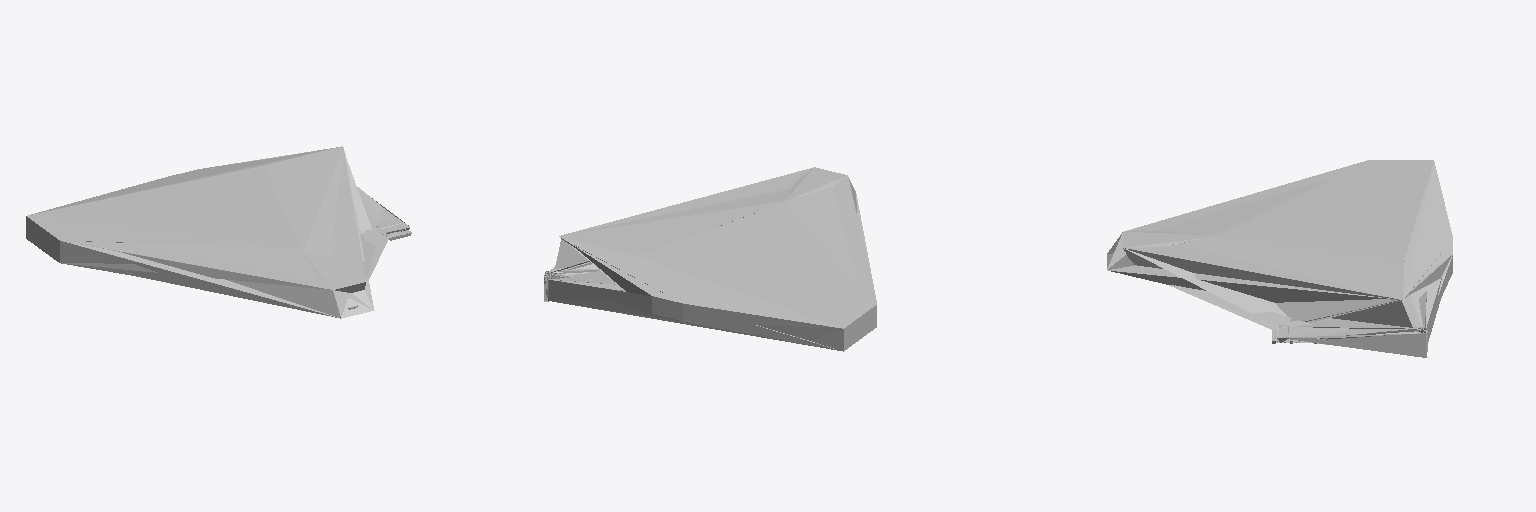
File: Craft.obj
3 renders of one model, left to right at view 1: azimuth 30°, elevation 25°; view 2: azimuth 150°, elevation 25°; view 3: azimuth 270°, elevation 25°, orthographic.
Visible parts, largest first — view 1: Room_Cockpit_M61, Prop_Cockpit_Seat_06_M66.005, Prop_EngineRoom_Reactor_M58, DoorFrame_Cockpit_05_M74, Room_EngineRoom_M62, Prop_DiningHall_FoodDispenser_01_M56, DoorFrame_DiningHall_03_M72, Prop_EngineRoom_Pipe_03_Cylinder.002, Prop_PodRoom_Pod_08_M99, Prop_EngineRoom_Railing_M199, Prop_PodRoom_Lever_07_M57.006, Prop_DiningHall_Bench_12_Cube.022; view 2: Room_Cockpit_M61, Prop_EngineRoom_Reactor_M58, Prop_Cockpit_Seat_06_M66.005, DoorFrame_DiningHall_03_M72, DoorFrame_Cockpit_05_M74, Prop_DiningHall_FoodDispenser_01_M56, Prop_EngineRoom_Pipe_03_Cylinder.002, Prop_PodRoom_Lever_07_M57.006, Prop_Cockpit_Monitor_04_Cube.003, Room_EngineRoom_M62, Trigger_Cockpit_08_M50, Prop_Cockpit_TLever_05_M43 (+1 smaller); view 3: Room_Cockpit_M61, Prop_EngineRoom_Reactor_M58, DoorFrame_Cockpit_05_M74, Room_EngineRoom_M62, Prop_Cockpit_Seat_06_M66.005, DoorFrame_DiningHall_03_M72, Room_PodRoom_M3, Prop_DiningHall_FoodDispenser_01_M56, Prop_EngineRoom_Railing_M199, Prop_EngineRoom_Pipe_03_Cylinder.002, Prop_PodRoom_Lever_07_M57.006.
Part boxes in pixels (x1,y1,x2,y2): Room_Cockpit_M61: (28, 147, 373, 317); Prop_Cockpit_Seat_06_M66.005: (27, 218, 337, 317); Prop_EngineRoom_Reactor_M58: (333, 157, 411, 309); DoorFrame_Cockpit_05_M74: (27, 156, 373, 307); Room_EngineRoom_M62: (62, 150, 353, 292); Prop_DiningHall_FoodDispenser_01_M56: (37, 148, 365, 287); DoorFrame_DiningHall_03_M72: (31, 146, 341, 247); Prop_EngineRoom_Pipe_03_Cylinder.002: (265, 148, 340, 247); Prop_PodRoom_Pod_08_M99: (133, 261, 363, 318); Prop_EngineRoom_Railing_M199: (60, 148, 365, 277); Prop_PodRoom_Lever_07_M57.006: (49, 171, 364, 289); Prop_DiningHall_Bench_12_Cube.022: (333, 282, 374, 318); Room_Cockpit_M61: (561, 177, 856, 328); Prop_EngineRoom_Reactor_M58: (544, 167, 837, 350); Prop_Cockpit_Seat_06_M66.005: (787, 175, 876, 341); DoorFrame_DiningHall_03_M72: (560, 202, 842, 328); DoorFrame_Cockpit_05_M74: (561, 184, 876, 327); Prop_DiningHall_FoodDispenser_01_M56: (561, 169, 845, 325); Prop_EngineRoom_Pipe_03_Cylinder.002: (563, 202, 784, 255); Prop_PodRoom_Lever_07_M57.006: (560, 167, 875, 327); Prop_Cockpit_Monitor_04_Cube.003: (683, 304, 876, 346); Room_EngineRoom_M62: (561, 189, 790, 254); Trigger_Cockpit_08_M50: (652, 303, 839, 350); Prop_Cockpit_TLever_05_M43: (562, 201, 786, 295); Room_Cockpit_M61: (1117, 161, 1433, 299); Prop_EngineRoom_Reactor_M58: (1126, 244, 1452, 357); DoorFrame_Cockpit_05_M74: (1107, 160, 1440, 297); Room_EngineRoom_M62: (1108, 240, 1400, 322); Prop_Cockpit_Seat_06_M66.005: (1124, 162, 1361, 236); DoorFrame_DiningHall_03_M72: (1218, 162, 1450, 298); Room_PodRoom_M3: (1124, 248, 1397, 320); Prop_DiningHall_FoodDispenser_01_M56: (1126, 172, 1430, 297); Prop_EngineRoom_Railing_M199: (1123, 248, 1440, 299); Prop_EngineRoom_Pipe_03_Cylinder.002: (1223, 236, 1402, 298); Prop_PodRoom_Lever_07_M57.006: (1123, 161, 1452, 284).
Size of the model in its own units: 25.66 by 4.55 by 25.2.